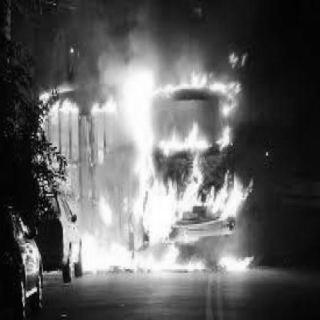Fire: (48, 29, 264, 282)
